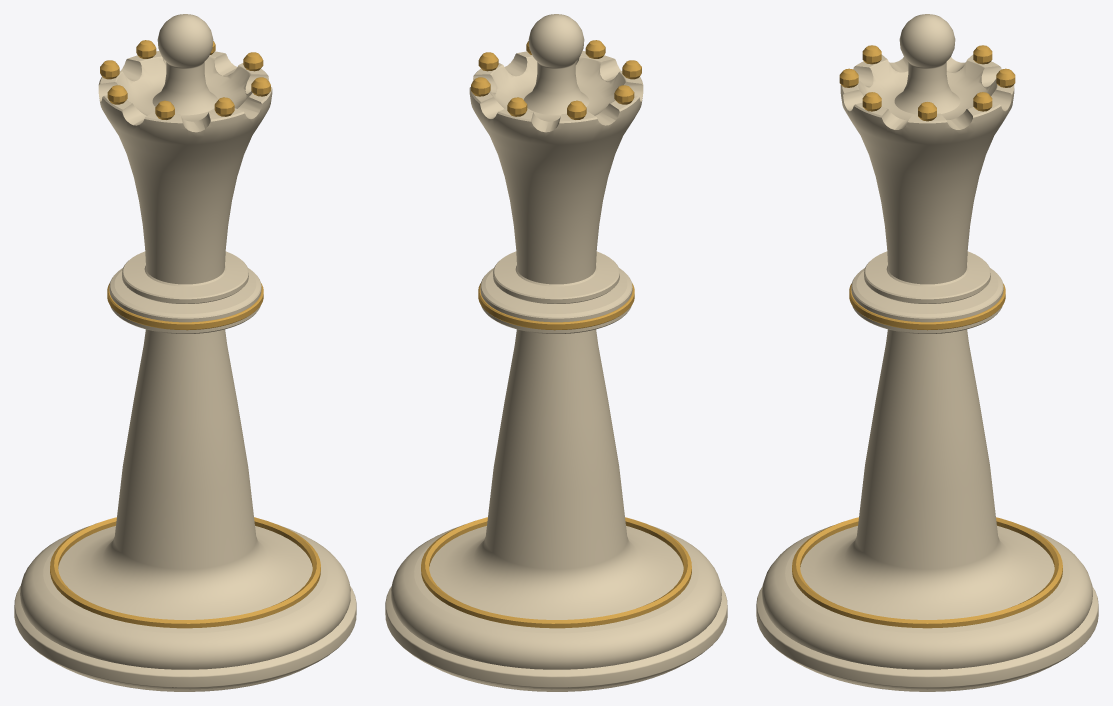
The model's file is queen.obj.
3 views of the same model, side by side, from view 1: azimuth 30°, elevation 25°; view 2: azimuth 150°, elevation 25°; view 3: azimuth 270°, elevation 25° (orthographic).
Parts seen in each view (by area): view 1: queen; view 2: queen; view 3: queen.
Part boxes in pixels (x1,y1,x2,y2): queen: [14, 14, 356, 691]; queen: [385, 14, 727, 691]; queen: [756, 14, 1098, 691].
Size of the model in its own units: 0.54 by 1.06 by 0.54.
